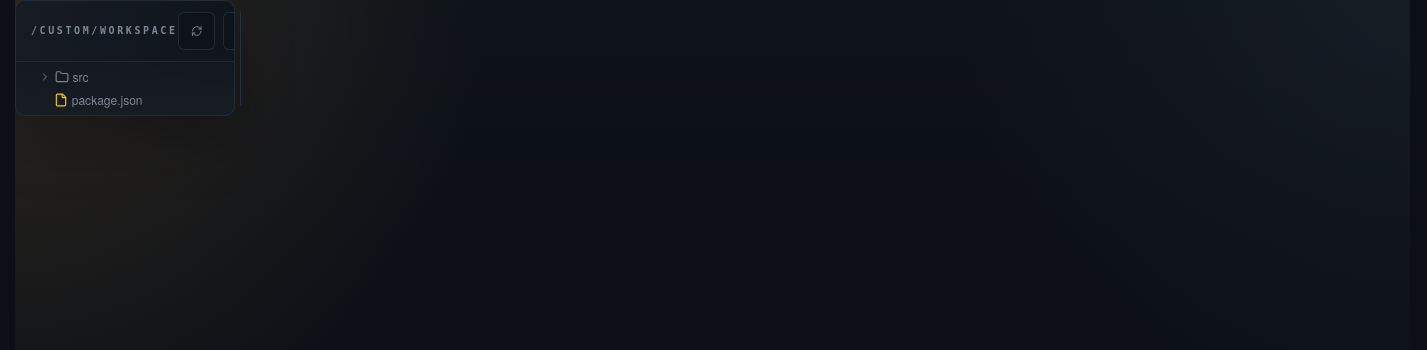
Test: FileTreePanel › context menu for deletion › shows "Permanently Delete" for custom workspace
The width and height of the screenshot is (1427, 350).
# Simulate context menu
Right-click the text "src" at [80, 77], box [72, 68, 88, 87]
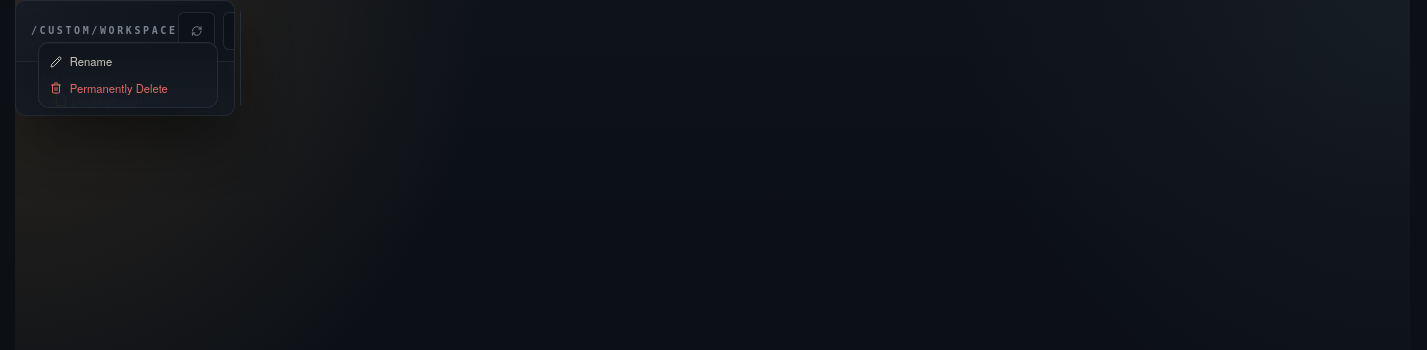
Result: the button "Permanently Delete" is shown at [39, 75, 217, 101]
